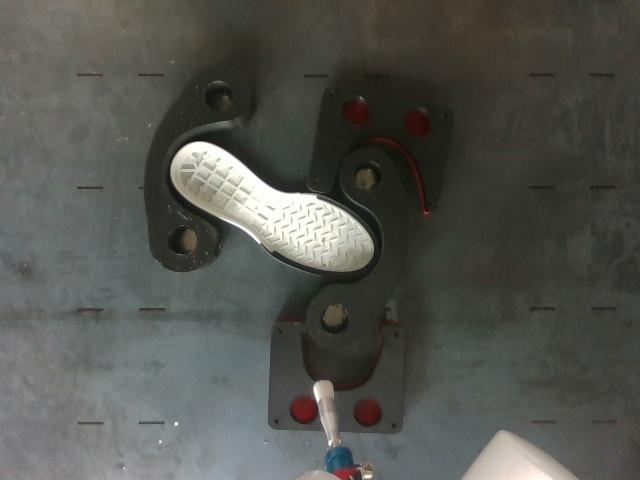shoes: (172, 143, 378, 280)
